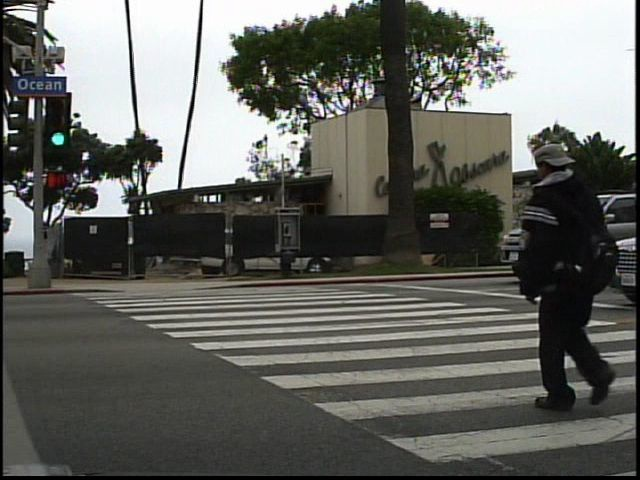person: (512, 136, 616, 414)
